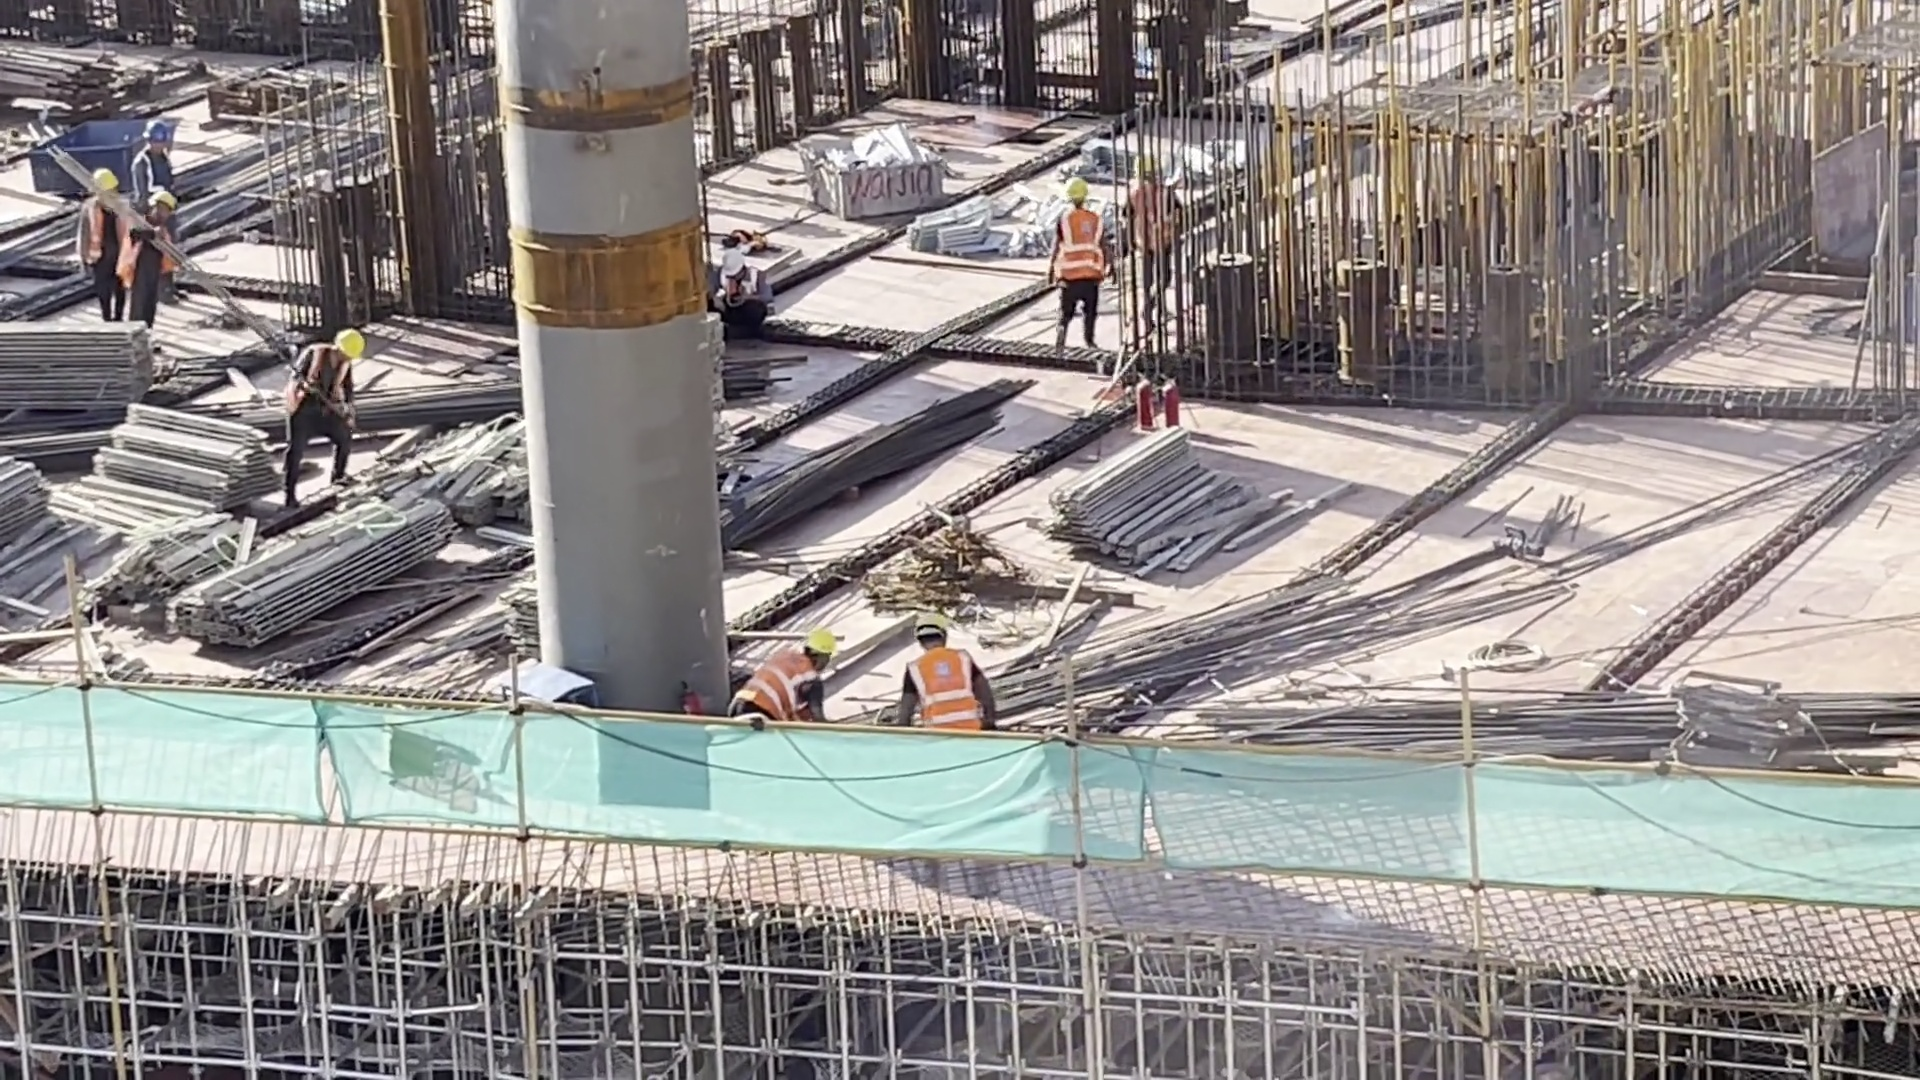helmet: (86, 154, 123, 198), (910, 609, 958, 642), (803, 624, 847, 658), (717, 238, 747, 276), (333, 327, 370, 354), (144, 124, 173, 152), (1062, 171, 1086, 197), (1138, 158, 1163, 174), (158, 191, 175, 211)
person: (1011, 169, 1118, 364), (736, 598, 839, 747), (894, 604, 997, 751), (291, 312, 363, 489), (1122, 142, 1181, 333), (112, 105, 181, 254), (66, 156, 129, 308), (698, 234, 780, 349), (123, 178, 181, 343)
vest: (889, 642, 984, 737), (75, 186, 137, 264), (748, 643, 815, 709), (1045, 208, 1099, 289), (296, 341, 348, 422), (122, 141, 174, 217), (1137, 186, 1182, 246), (132, 227, 177, 282)
